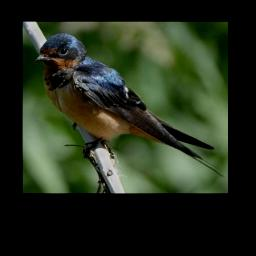Swallow: (34, 32, 226, 179)
